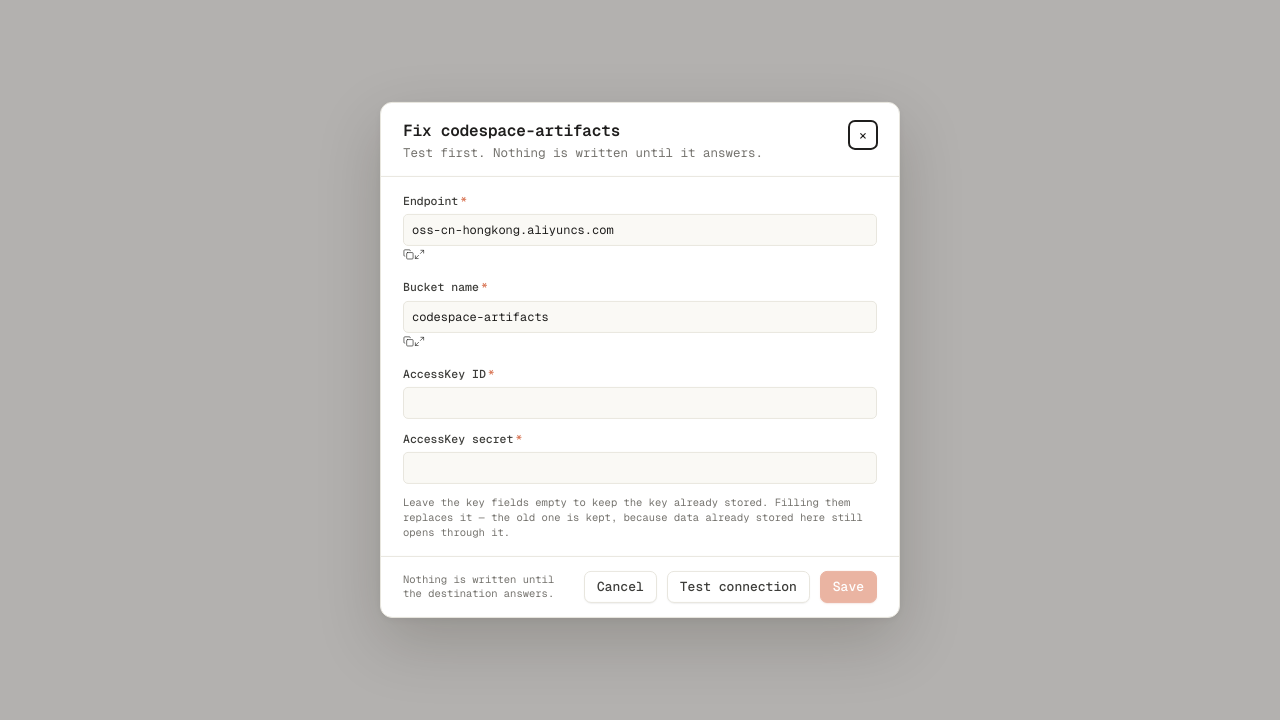
Test: FixConnectionDialog › has nothing to save when the destination already works and nothing was edited
This screenshot has width=1280, height=720.
Expected: the password field named "AccessKey secret" is shown, [403,452,877,484]
What coordinates should you click on to do the following:
click the button "Test connection"
I would click on:
 (738, 587)
Its box is [667,571,810,603].
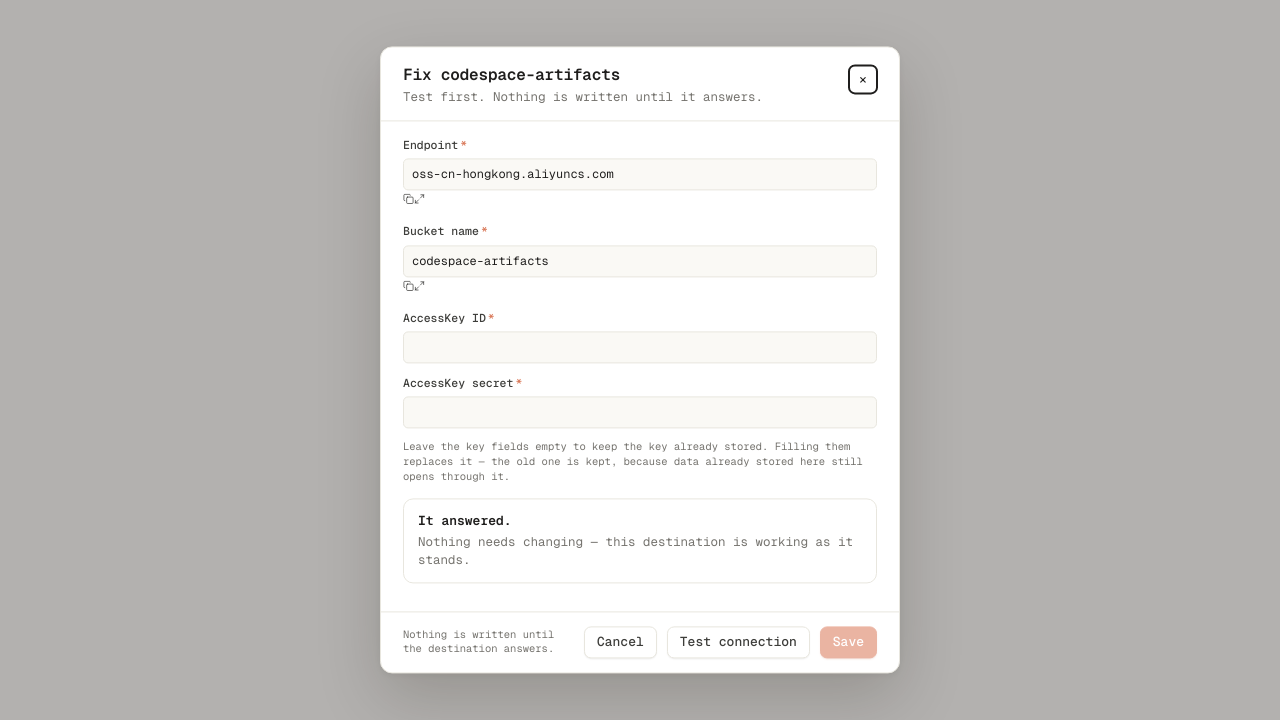
Expected: the button "Save" is disabled, [820,627,877,659]
Expected: the text "Nothing needs changing" is shown, [418,533,853,569]
